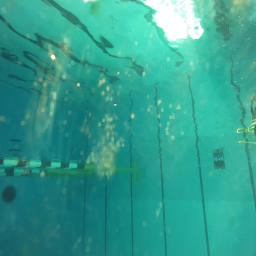Full: (251, 102, 256, 137)
front: (213, 154, 225, 170)
